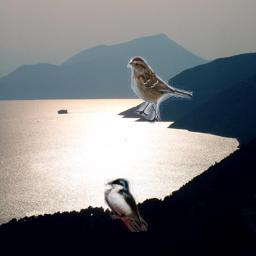Sparrow: (127, 54, 193, 124)
Swallow: (104, 178, 148, 232)
